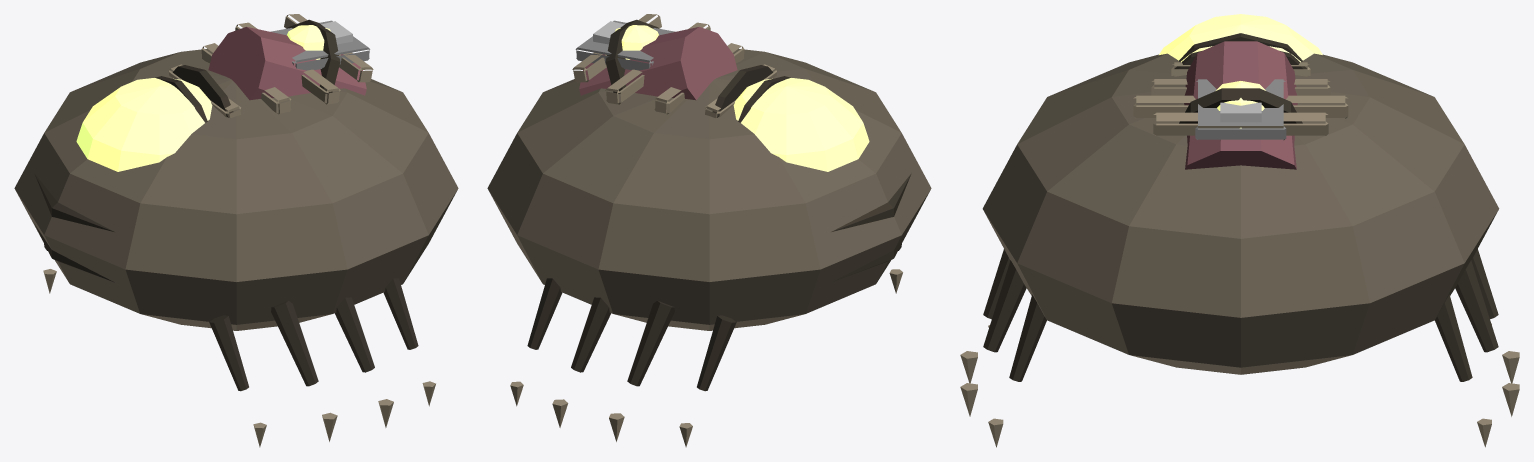
Rendered from bl_lobber.glb.
3 renders of one model, left to right at view 1: azimuth 30°, elevation 25°; view 2: azimuth 150°, elevation 25°; view 3: azimuth 270°, elevation 25°, orthographic. The views are drawn at different scales.
Parts seen in each view (by area): view 1: body, turret, leg_3_b, leg_5_a, leg_1_a, leg_7_b; view 2: body, turret, leg_2_a, leg_4_b, leg_0_b, leg_6_a; view 3: body, turret, leg_4_b, leg_5_a, leg_7_b, leg_6_a, leg_2_a, leg_3_b.
Boxes of the visible parts, x1,y1,x2,y2 form: body: (14,14,458,330); turret: (208,19,366,100); leg_3_b: (271,300,337,441); leg_5_a: (334,297,393,427); leg_1_a: (209,315,266,447); leg_7_b: (383,278,435,406); body: (487,14,931,330); turret: (579,19,737,100); leg_2_a: (609,300,674,441); leg_4_b: (552,297,611,427); leg_0_b: (679,315,736,447); leg_6_a: (510,278,562,406); body: (982,14,1499,374); turret: (1179,41,1302,169); leg_4_b: (1455,260,1519,416); leg_5_a: (960,260,1026,416); leg_7_b: (988,294,1046,447); leg_6_a: (1435,295,1491,447); leg_2_a: (1471,249,1519,383); leg_3_b: (960,249,1010,383).
Bounding box in the file's own units: 32.5 × 25.46 × 35.19.
